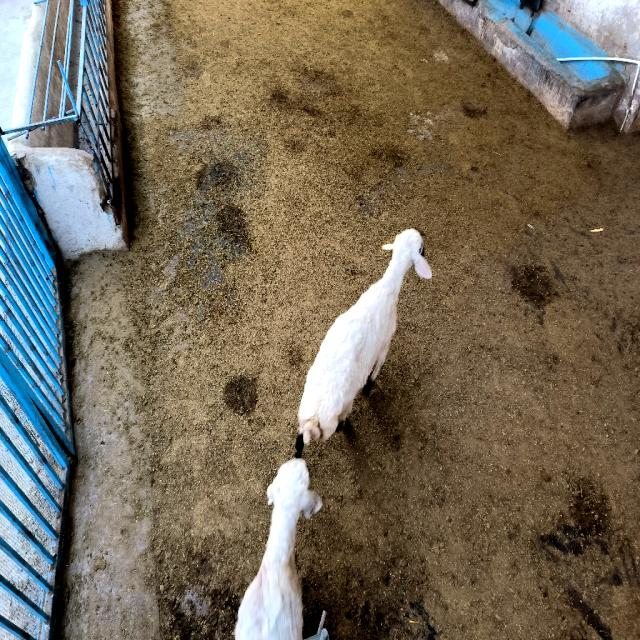sheep: (296, 228, 431, 456), (235, 458, 322, 639)
